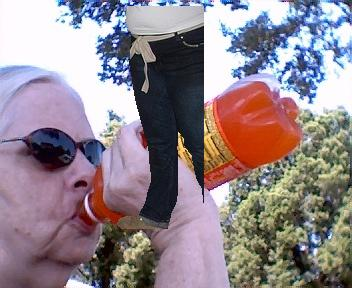tampered: (118, 7, 204, 229)
